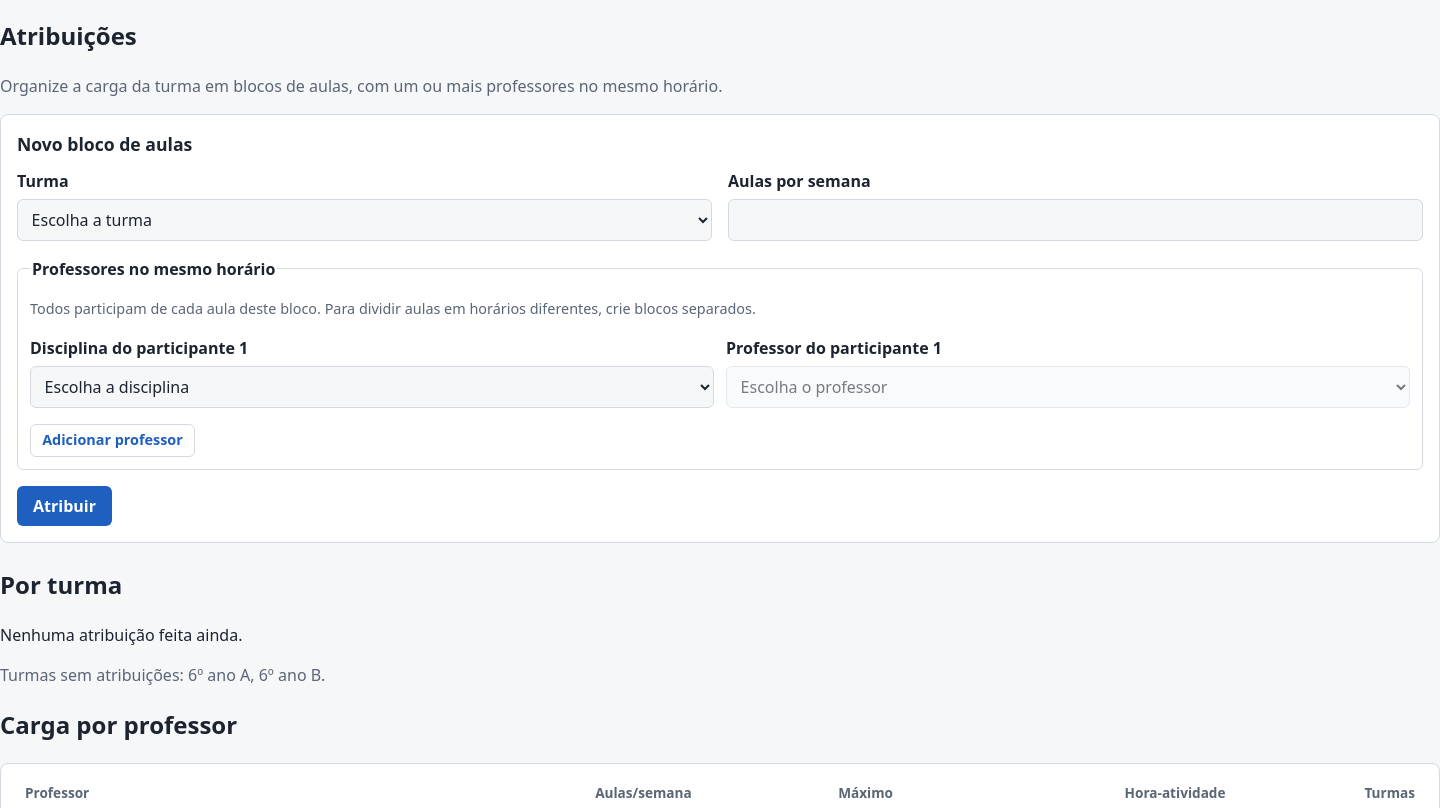
AssignmentsPage › atribui, confirma e mantém a turma escolhida
Select "6º ano A" in the dropdown with id "assignment-class-group" at {"x": 364, "y": 220}, box [17,199,712,241]
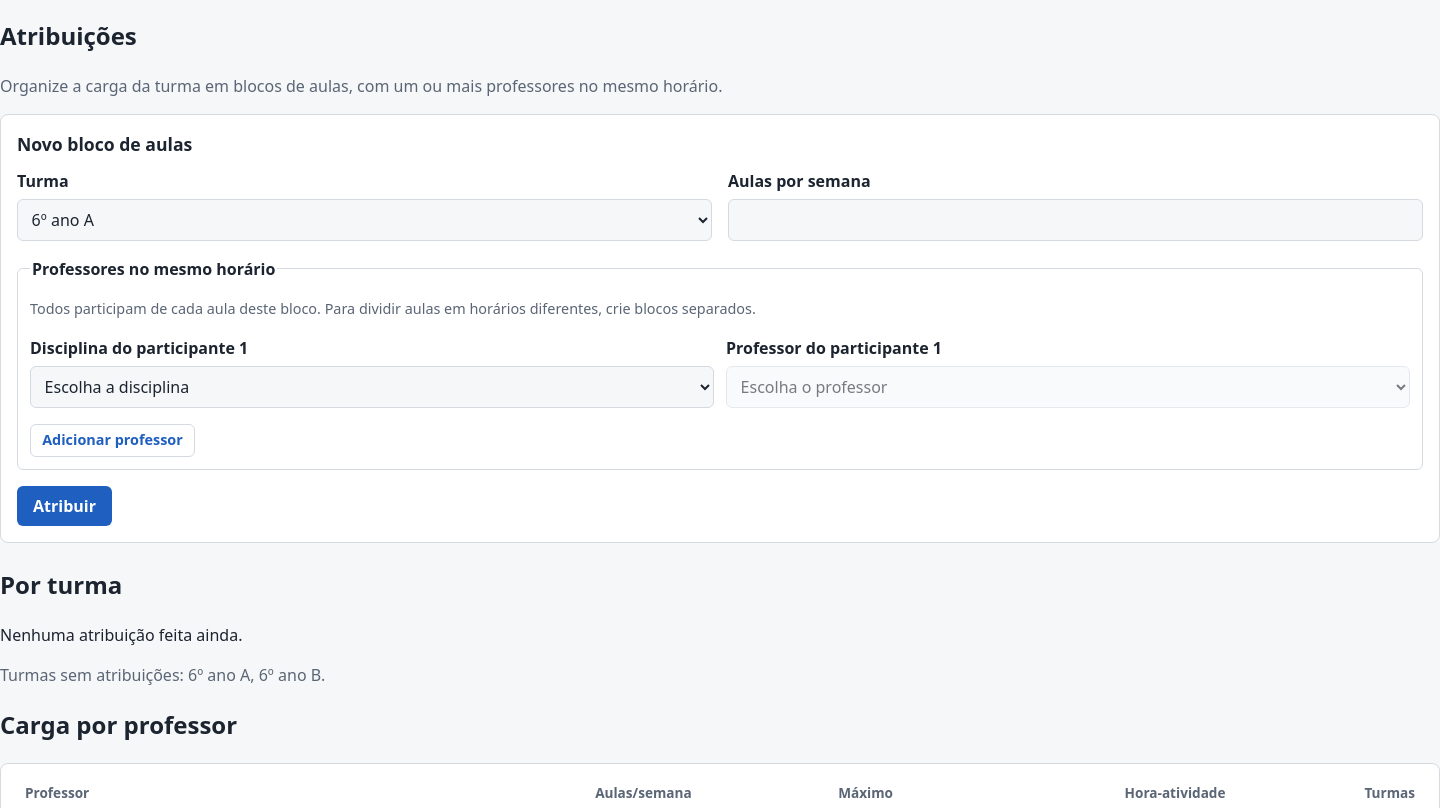
Select "Matemática" in the dropdown with id "assignment-subject-0" at {"x": 372, "y": 387}, box [30,366,714,408]
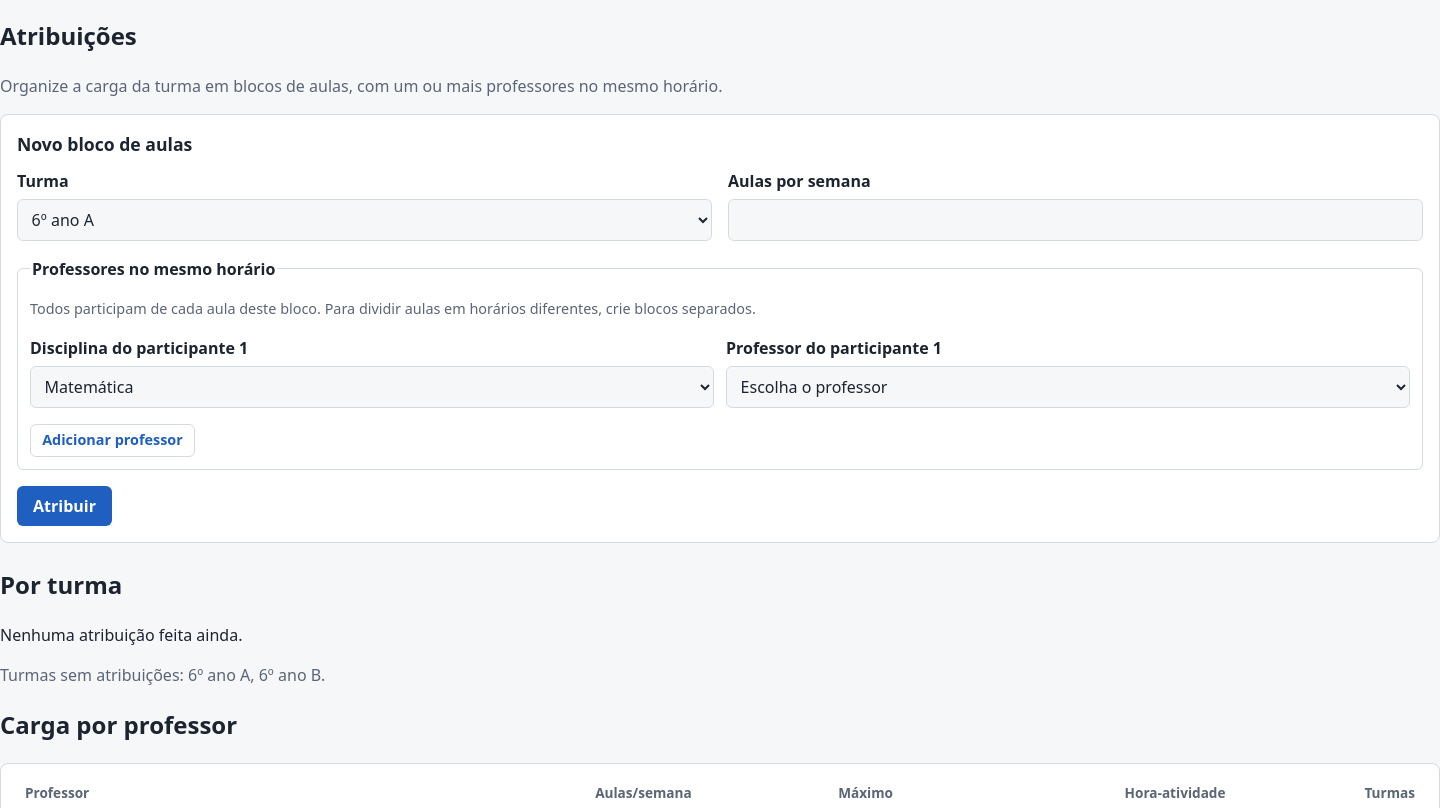
Select "Docente Alfa" in the dropdown with id "assignment-teacher-0" at {"x": 1068, "y": 387}, box [726,366,1410,408]
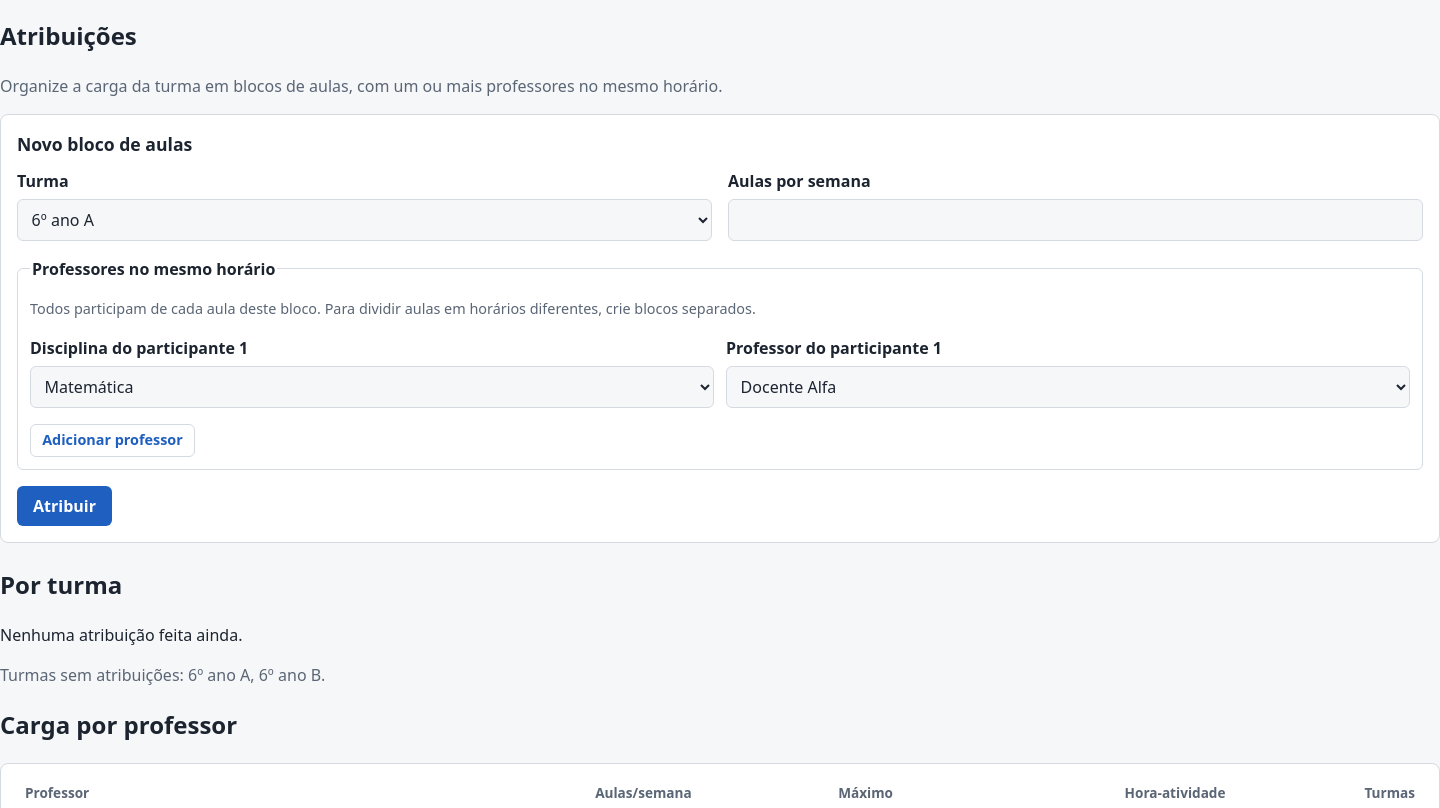
Type "5" into the number field with id "assignment-lessons" at {"x": 1076, "y": 220}, box [728,199,1423,241]
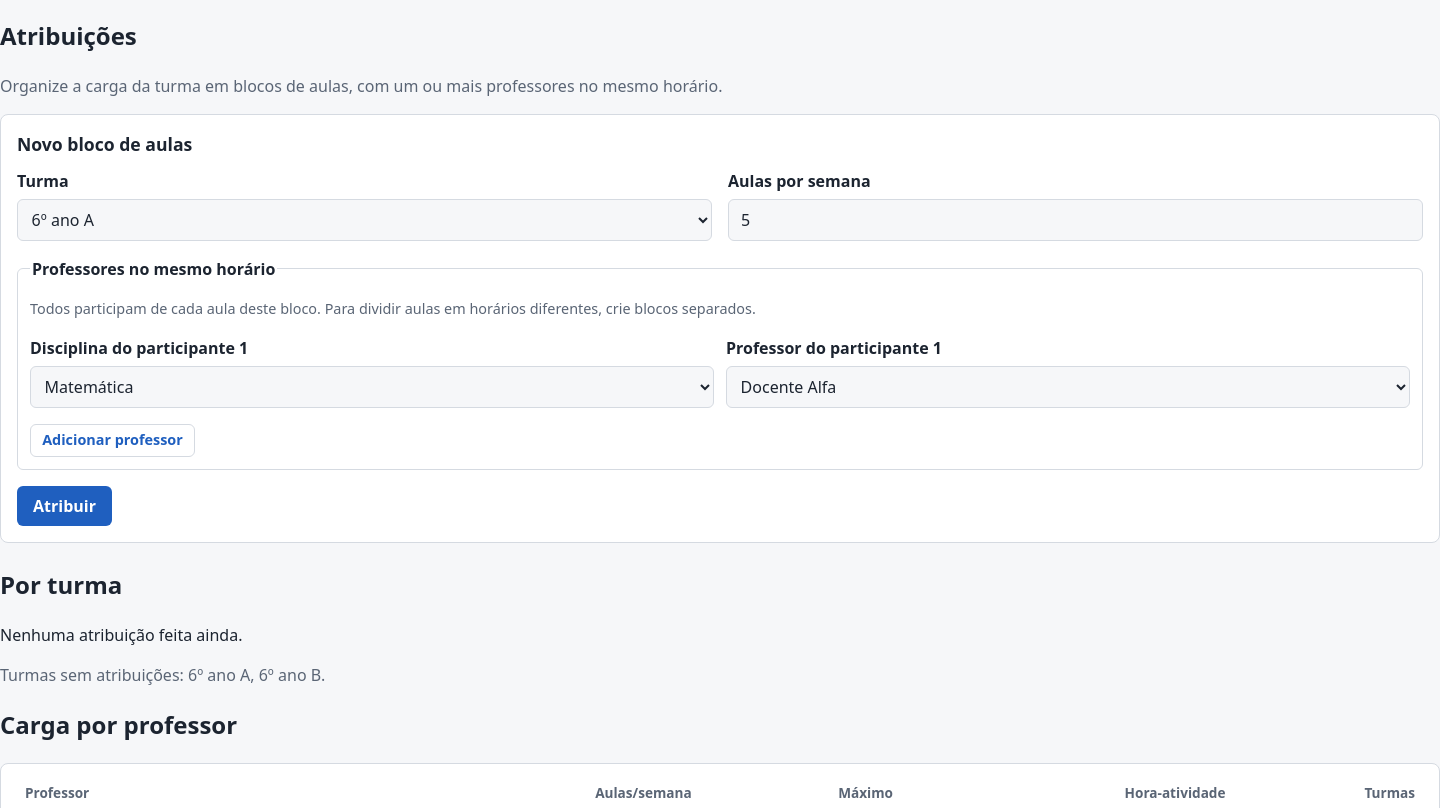
Submit the form, box [0,114,1439,543]
(page scrolled)
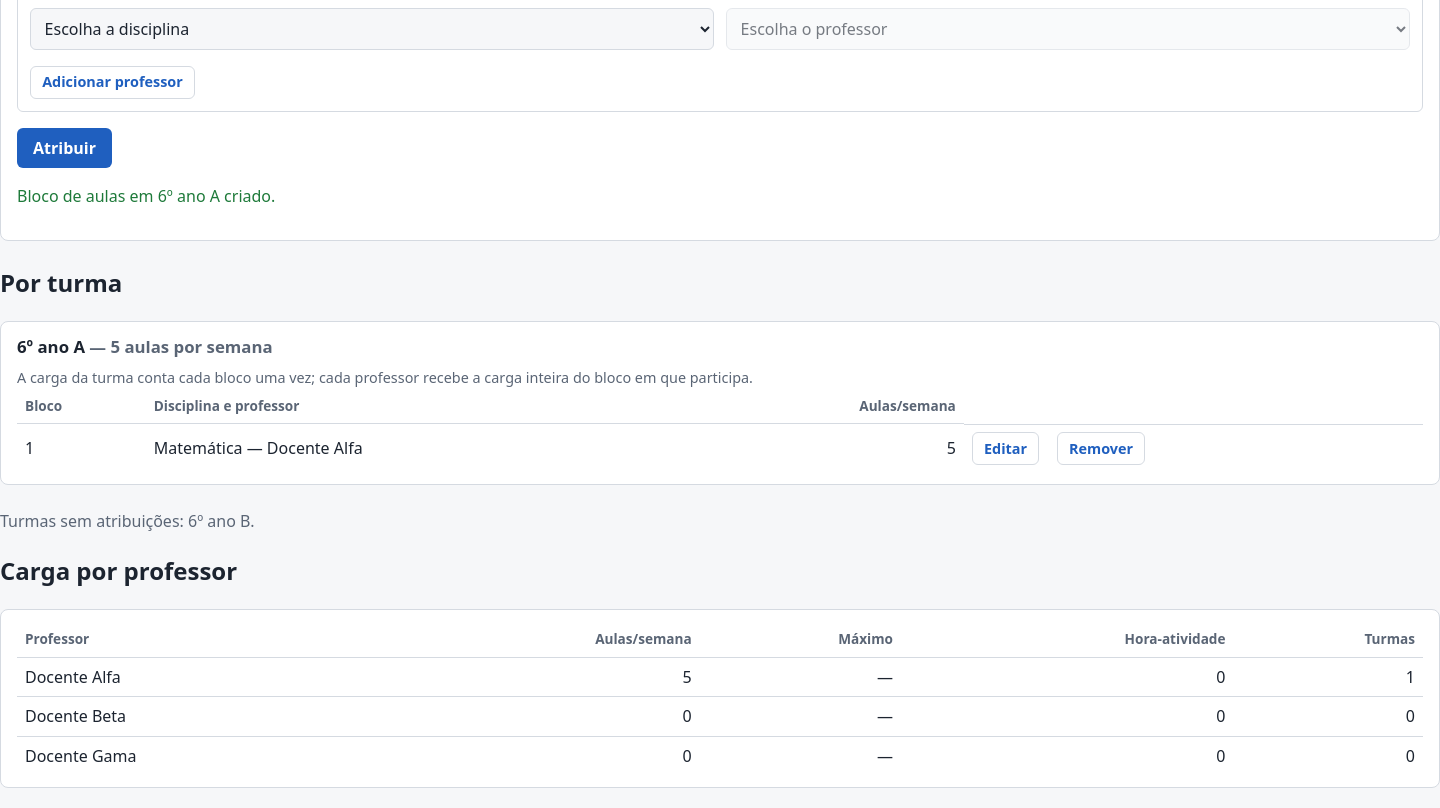
Expected: the message "Bloco de aulas em 6º ano A criado." is shown, [17,185,275,207]
Expected: the element named "Turma 6º ano A" shows "Matemática", [154,437,363,459]
